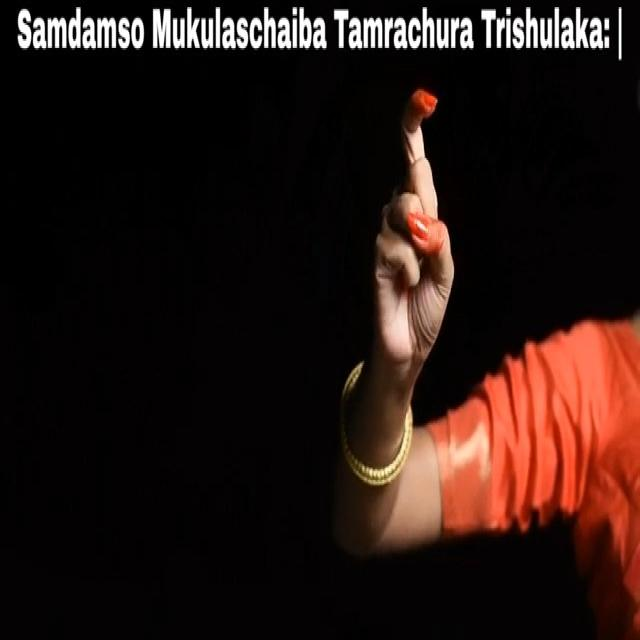Tamrachuda: (358, 85, 478, 387)
bangle: (326, 362, 416, 498)
text: (11, 0, 626, 66)
